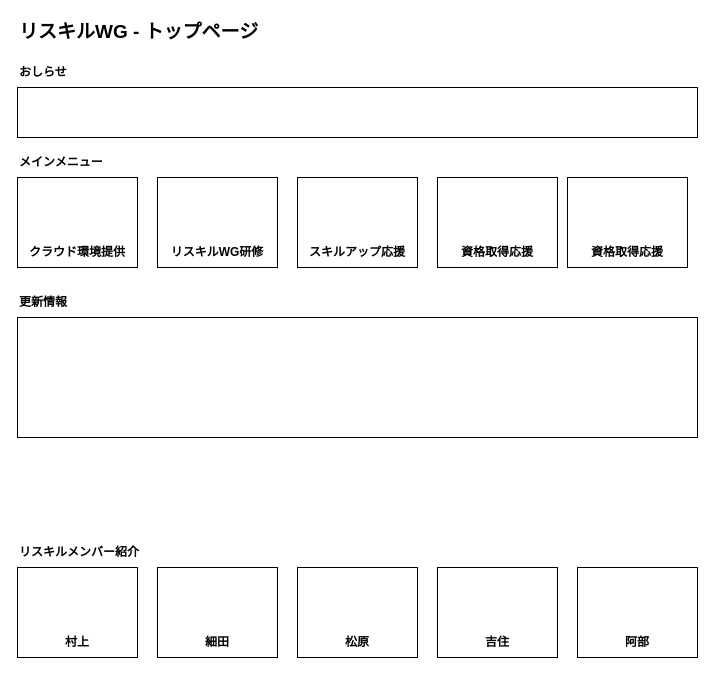
The diagram is 715 pixels wide and 675 high, and some of its shapes have lost their labels. Each missing label, with the centre of its shape:
"各ページの更新情報などを掲載します。" goes at (357,377).
"重要度の高い情報を掲載します。" goes at (357,112).
